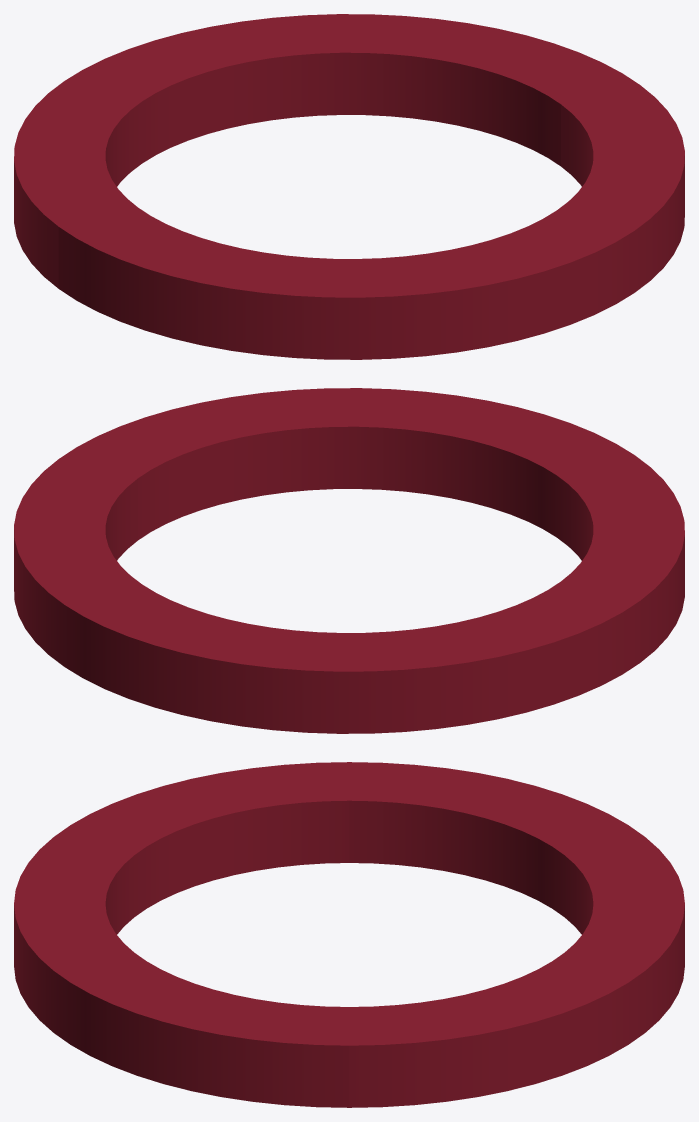
Rendered from disc_stack_centrifuge_pressure.glb.
The picture shows the model from 3 angles, top to bottom: view 1: azimuth 30°, elevation 25°; view 2: azimuth 150°, elevation 25°; view 3: azimuth 270°, elevation 25°; orthographic projection.
Visible parts, largest first — view 1: press__front, press__back; view 2: press__back, press__front; view 3: press__back, press__front.
Part boxes in pixels (bbox=[...]): press__front: bbox=[58, 85, 684, 359]; press__back: bbox=[14, 14, 639, 288]; press__back: bbox=[14, 459, 640, 733]; press__front: bbox=[59, 388, 684, 662]; press__back: bbox=[349, 762, 684, 1107]; press__front: bbox=[14, 762, 349, 1107].
Bounding box in the file's own units: 0.88 × 0.09 × 0.88.
